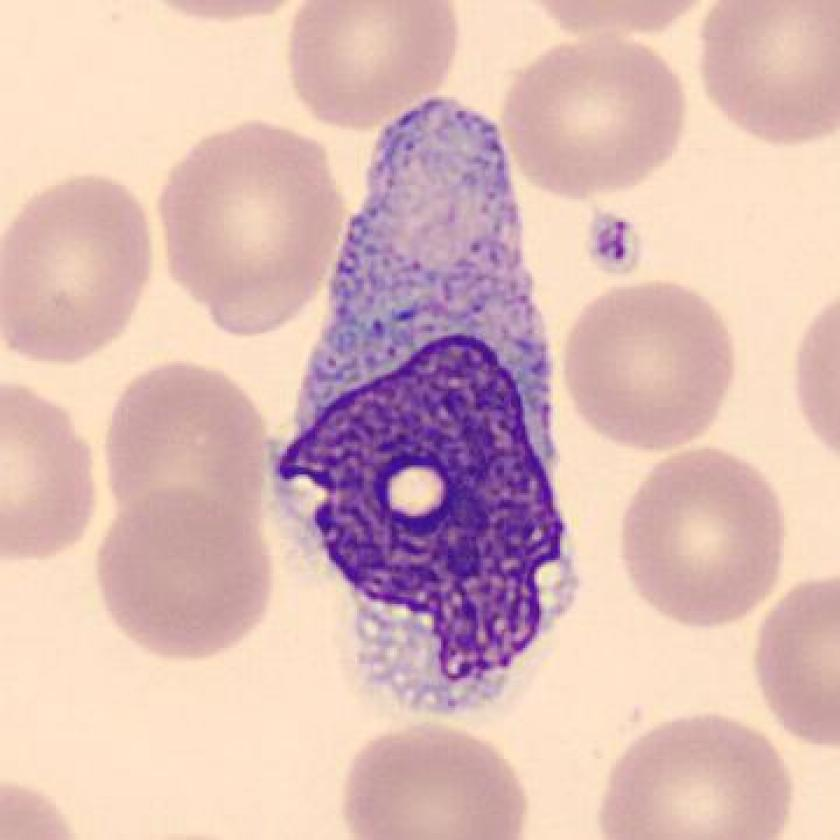monocyte: (251, 89, 598, 734)
